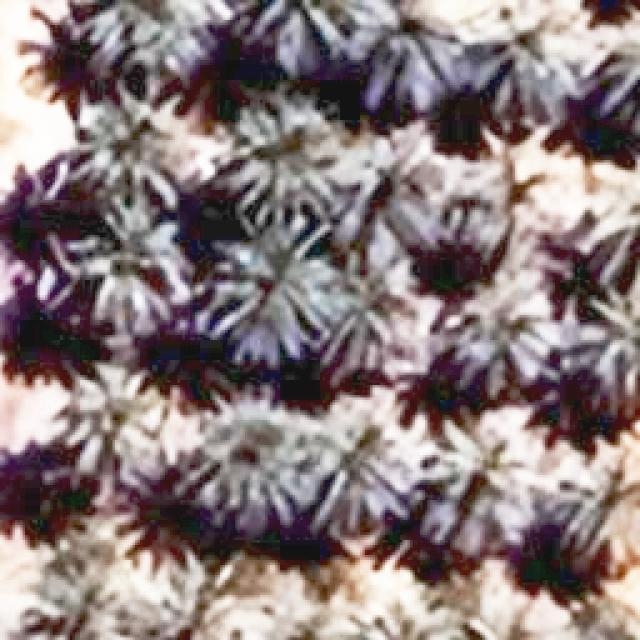PalmTree: (204, 214, 344, 368), (213, 220, 346, 361), (188, 388, 320, 528), (186, 393, 319, 526), (75, 192, 194, 333), (416, 418, 538, 554), (325, 133, 449, 262), (84, 194, 191, 343), (310, 252, 433, 380), (446, 143, 576, 264), (58, 364, 176, 496), (471, 0, 589, 130), (221, 98, 343, 223), (63, 364, 172, 495), (451, 267, 562, 393), (72, 94, 200, 202), (127, 125, 332, 191), (309, 248, 419, 370), (449, 270, 558, 387), (472, 17, 583, 130), (332, 118, 447, 226), (534, 455, 639, 570), (74, 0, 230, 77), (317, 418, 418, 536), (543, 452, 640, 573), (72, 0, 222, 78), (357, 1, 462, 112), (241, 0, 400, 73), (76, 92, 199, 185), (13, 546, 132, 640), (419, 419, 528, 519), (316, 420, 410, 533), (364, 0, 461, 108), (237, 0, 386, 70), (142, 554, 258, 640), (324, 191, 437, 261), (581, 164, 640, 294), (578, 283, 640, 404), (316, 602, 468, 640), (599, 5, 640, 138), (596, 288, 639, 399), (554, 592, 640, 640), (601, 37, 639, 133)
